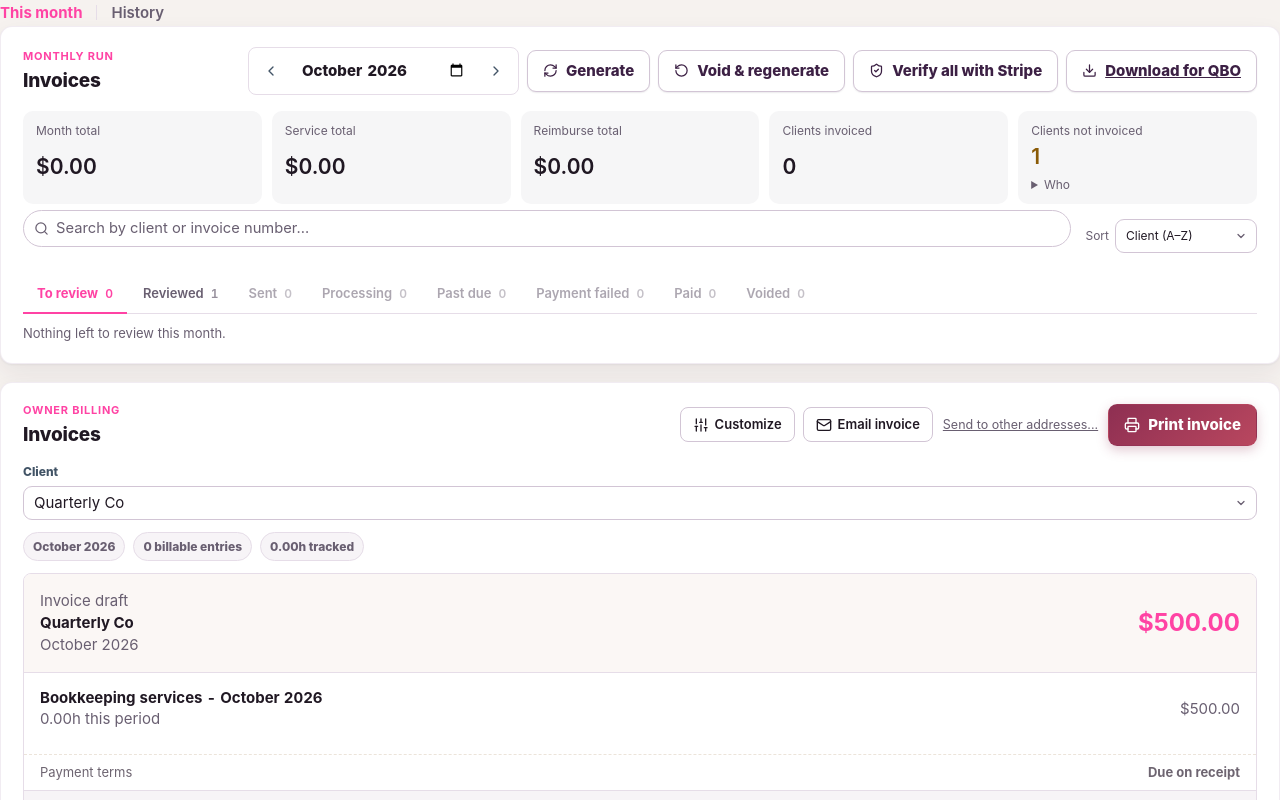
Test: Email invoice and the billing-period hold › Not now closes the question and sends nothing more
Click the button "Email invoice": [868, 425] box [803, 407, 933, 442]
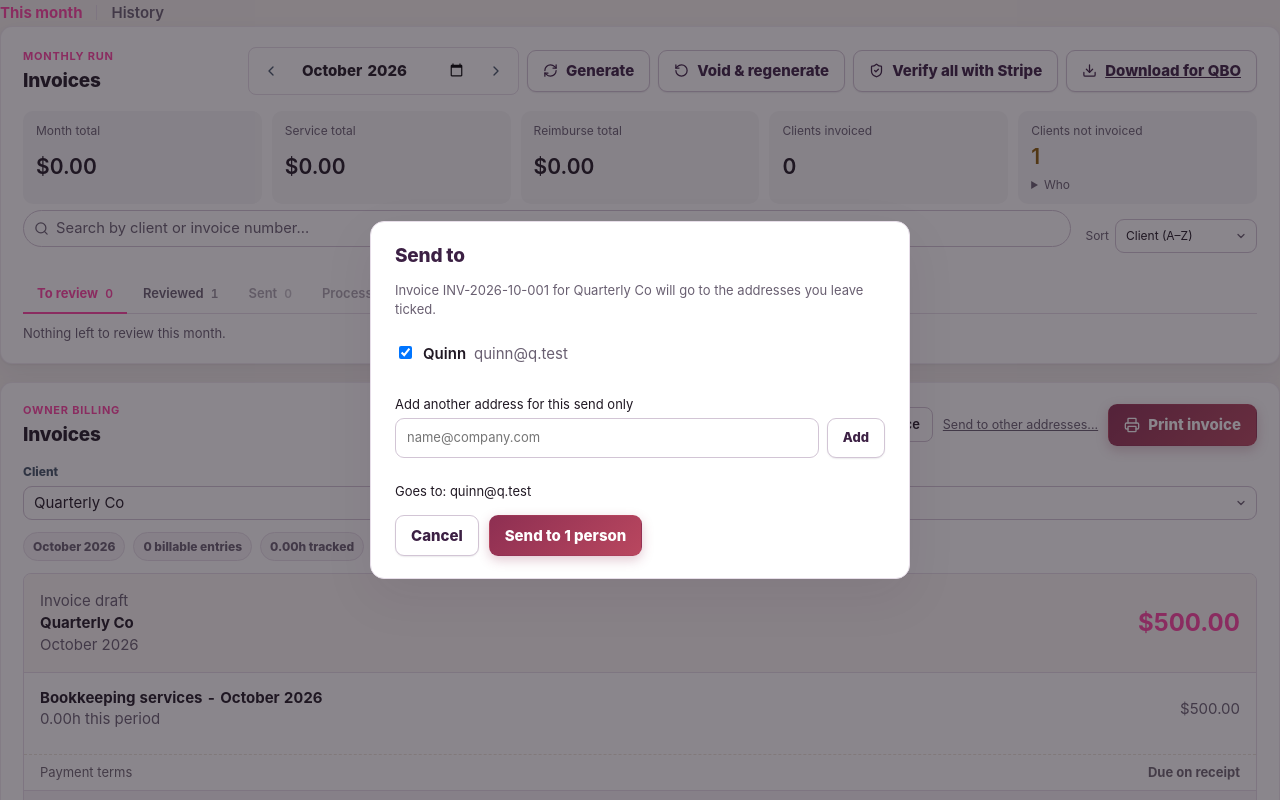
Click the button "Send to 1 person": [566, 536] box [489, 515, 642, 556]
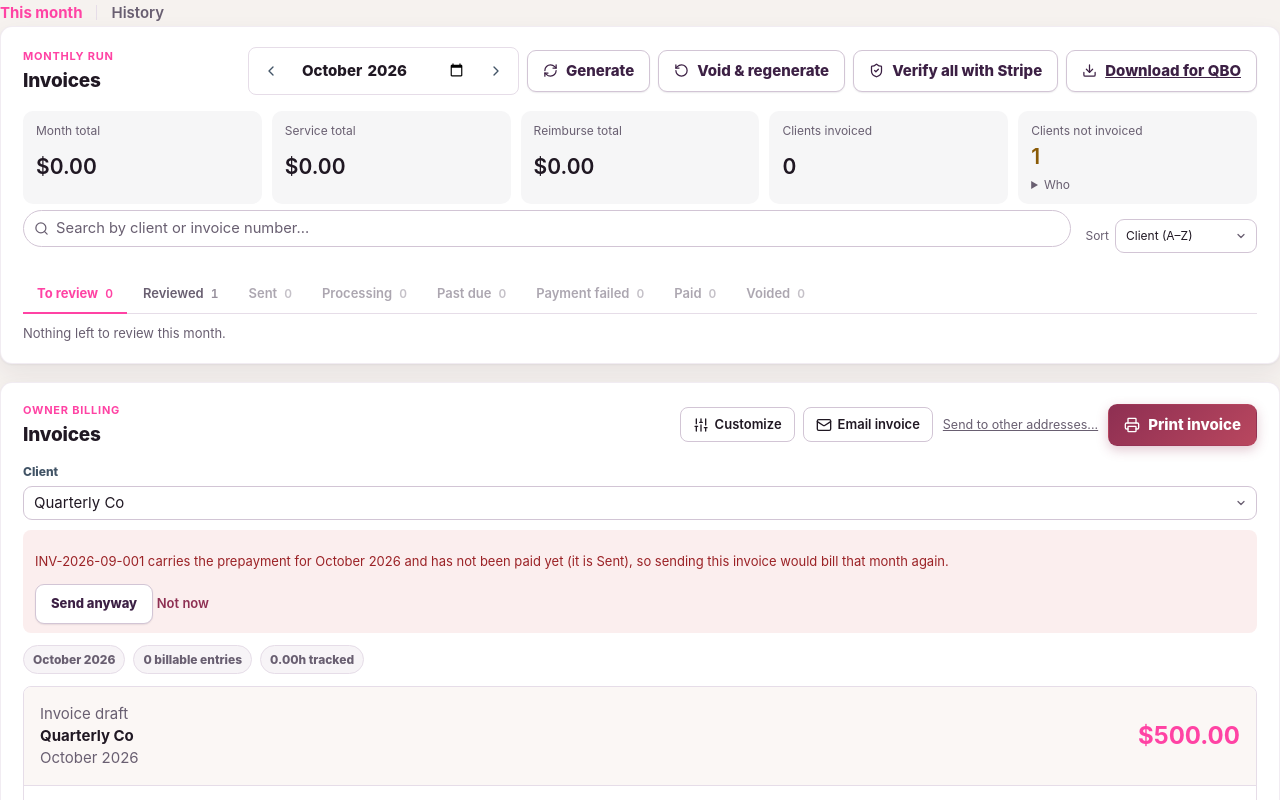
Click the button "Not now": [183, 604] box [157, 590, 209, 617]
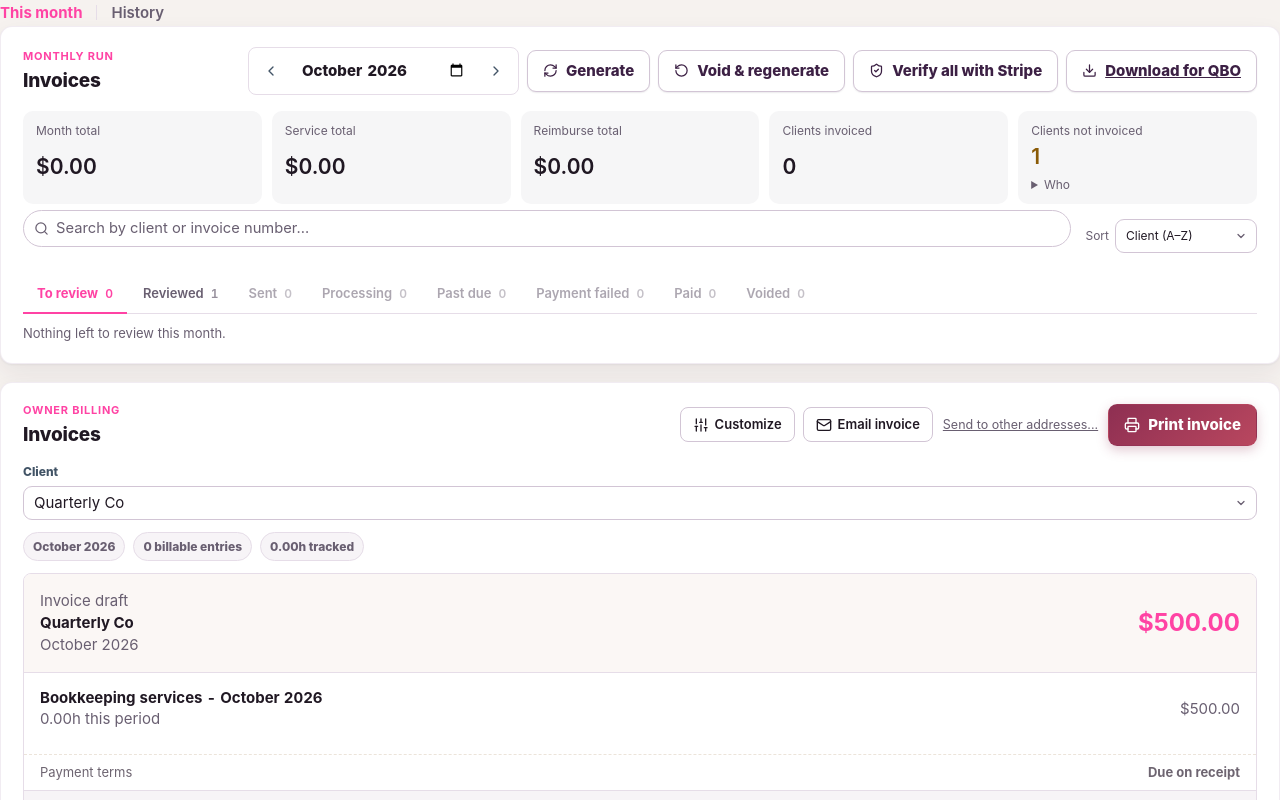
Result: the text "INV-2026-09-001 carries the prepayment for October 2026 and has not been paid yet (it is Sent), so sending this invoice " is gone
